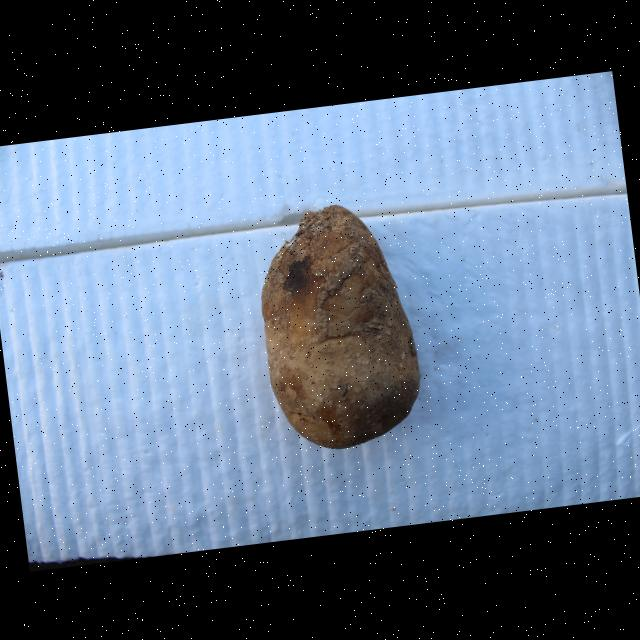Diseased-fungal potato: (248, 197, 426, 456)
